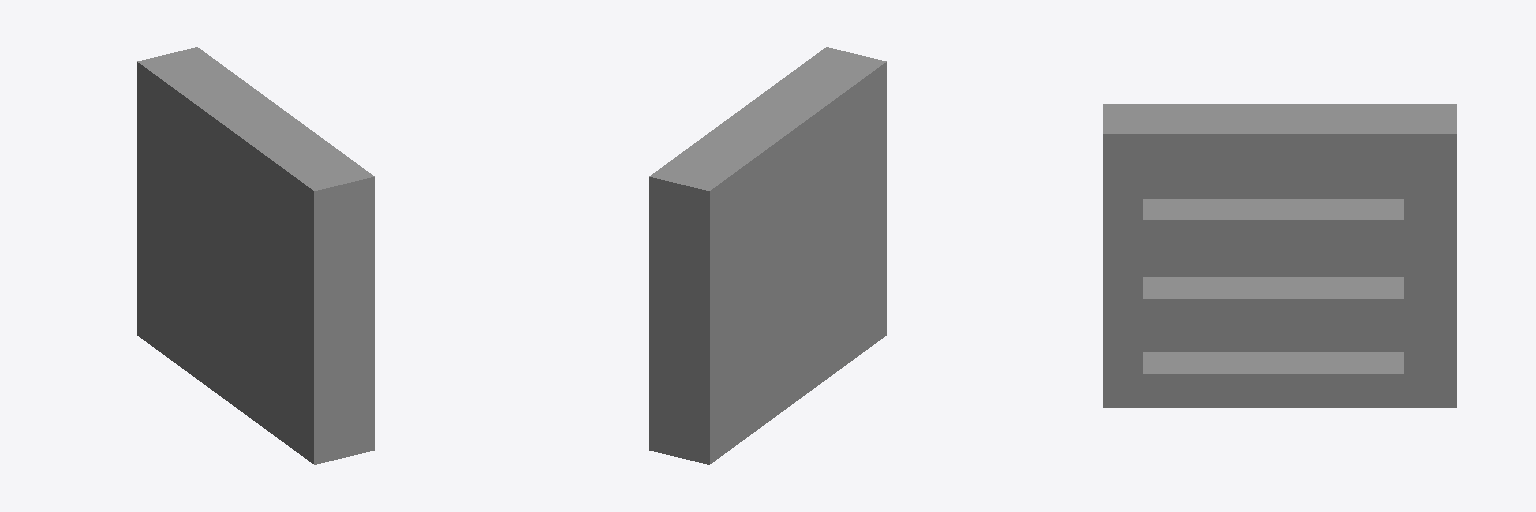
File: Bookshelf.obj
The picture shows the model from 3 angles: view 1: azimuth 30°, elevation 25°; view 2: azimuth 150°, elevation 25°; view 3: azimuth 270°, elevation 25°; orthographic projection.
Parts seen in each view (by area): view 1: Cube; view 2: Cube; view 3: Cube.
Part boxes in pixels (bbox=[...]): Cube: bbox=[137, 47, 374, 464]; Cube: bbox=[649, 47, 886, 464]; Cube: bbox=[1103, 104, 1456, 407].
Bounding box in the file's own units: 2 × 8.67 × 10.17.